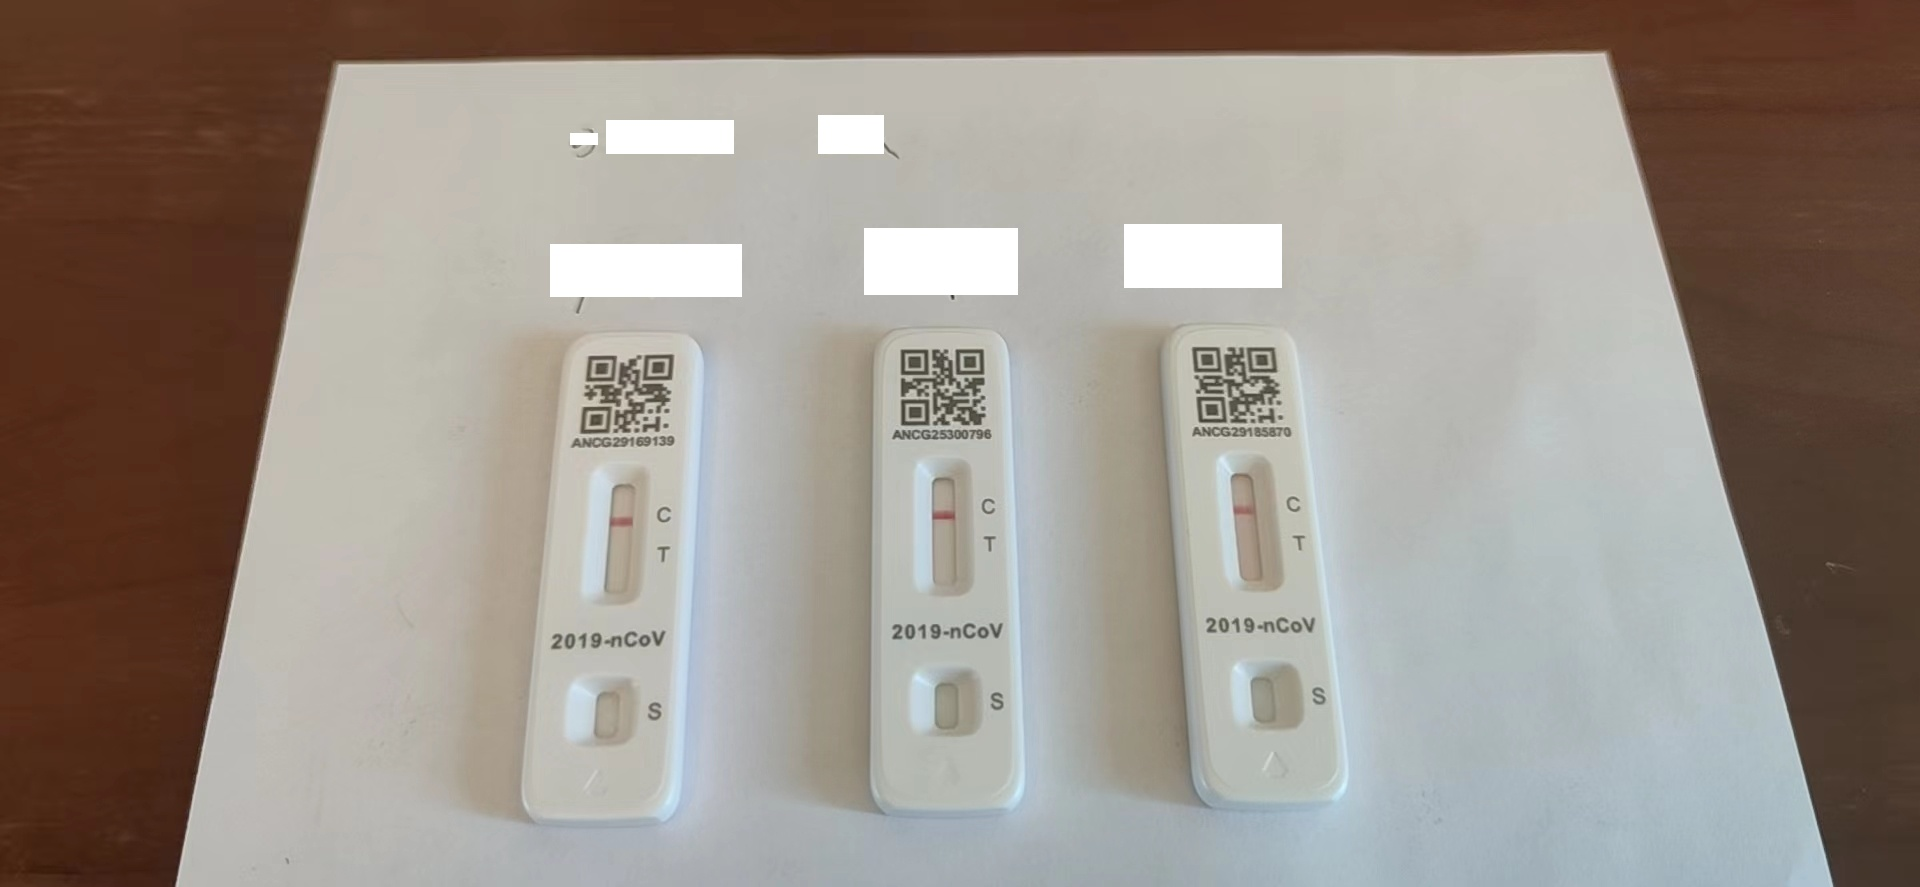negative: (1215, 450, 1284, 595), (910, 458, 975, 594), (584, 466, 648, 602)
